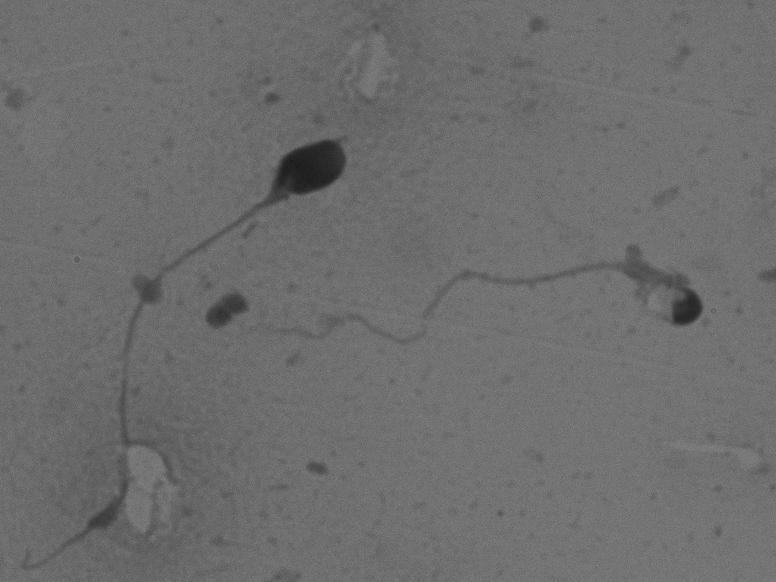Abnormal: (13, 121, 378, 573), (257, 236, 740, 387)
